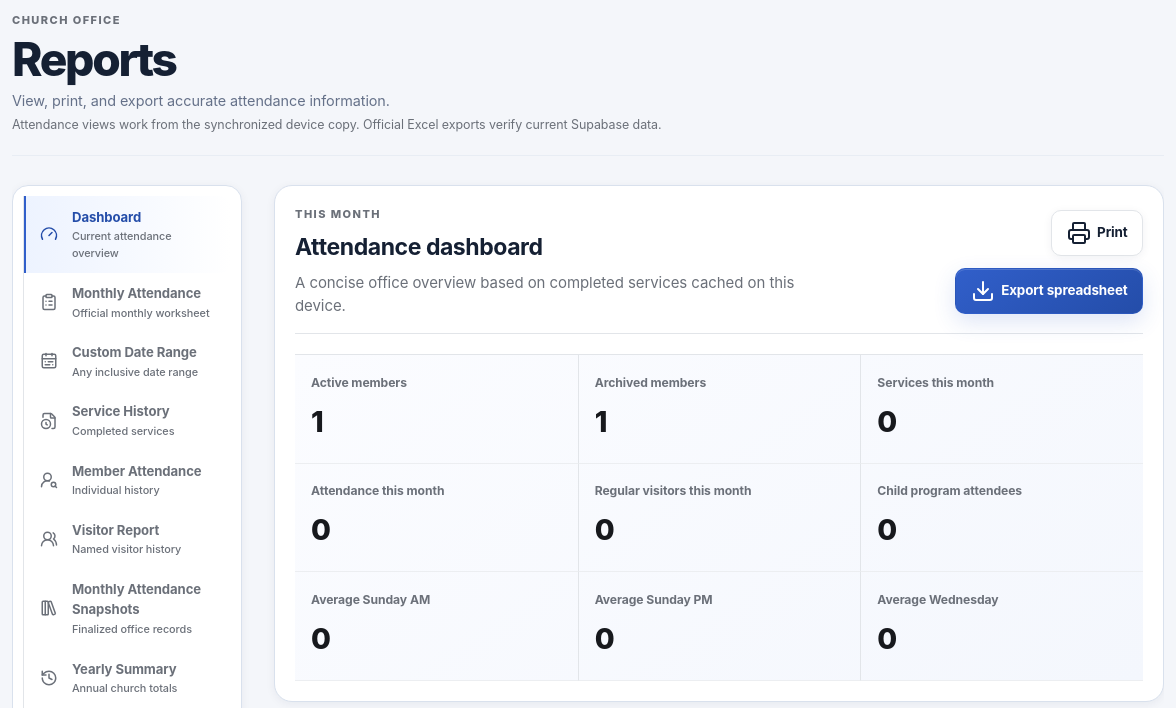
it: ReportsCenter › renders accessible report navigation and switches office reports
The image size is (1176, 708).
Expected: the heading "Attendance dashboard" is shown, x1=295 y1=233 x2=542 y2=261
What coordinates should you click on to do the following:
click the button "Service History Completed services"
I would click on:
 (128, 421)
Its box is x1=24 y1=391 x2=231 y2=450.
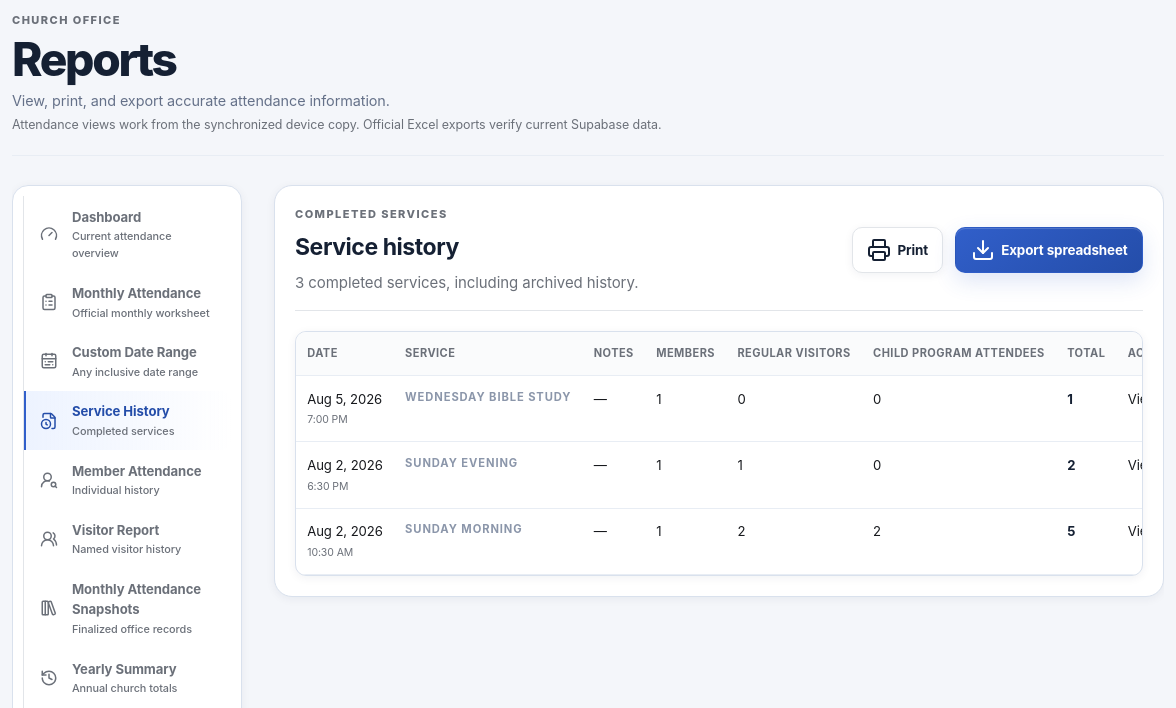
Result: the heading "Service history" is shown at x1=295 y1=233 x2=459 y2=261
Result: the column heading "Wednesday Bible Study" is shown at x1=394 y1=375 x2=582 y2=442
